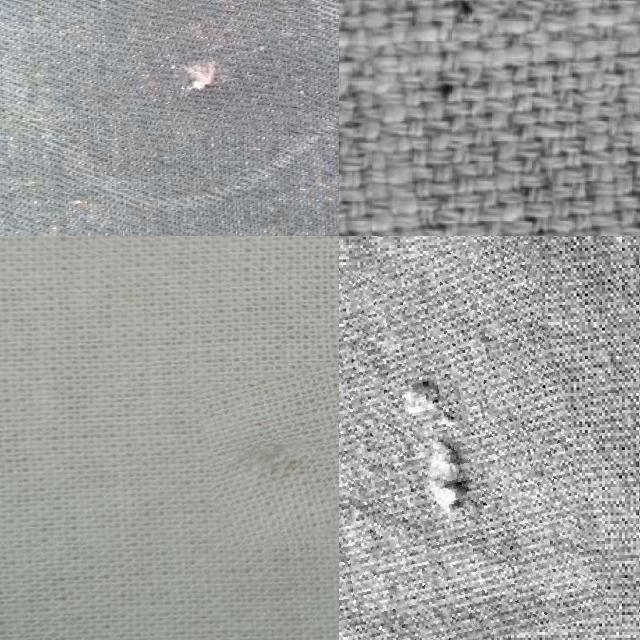other: (200, 363, 339, 544), (410, 45, 478, 138)
stains: (339, 253, 593, 640), (108, 0, 288, 145)
